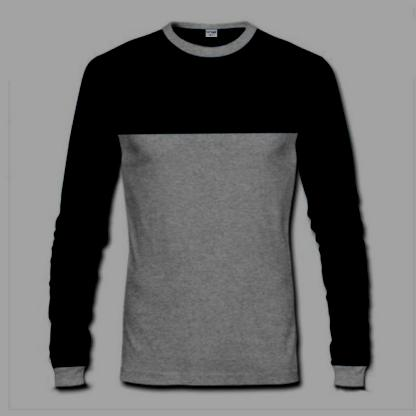dress: (29, 11, 380, 400)
